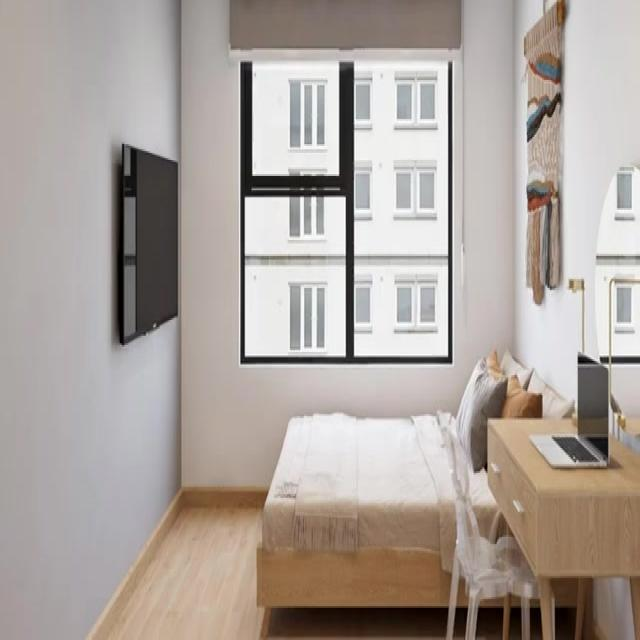obstacle: (255, 348, 577, 634), (486, 414, 639, 638)
